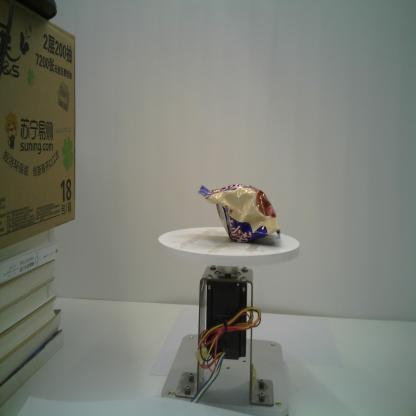Dessert: (197, 182, 281, 243)
